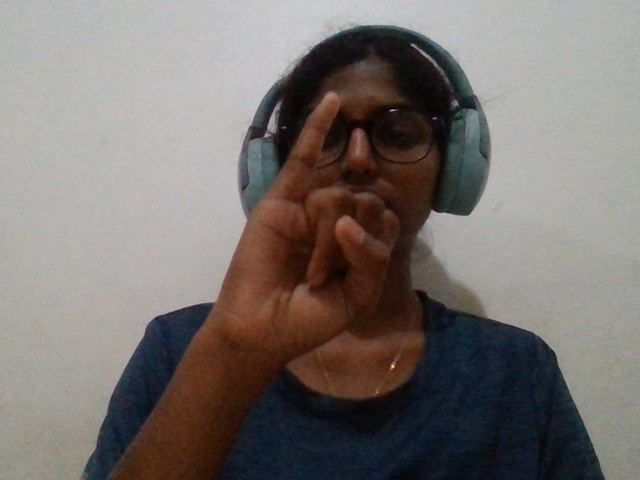I: (193, 77, 456, 372)
